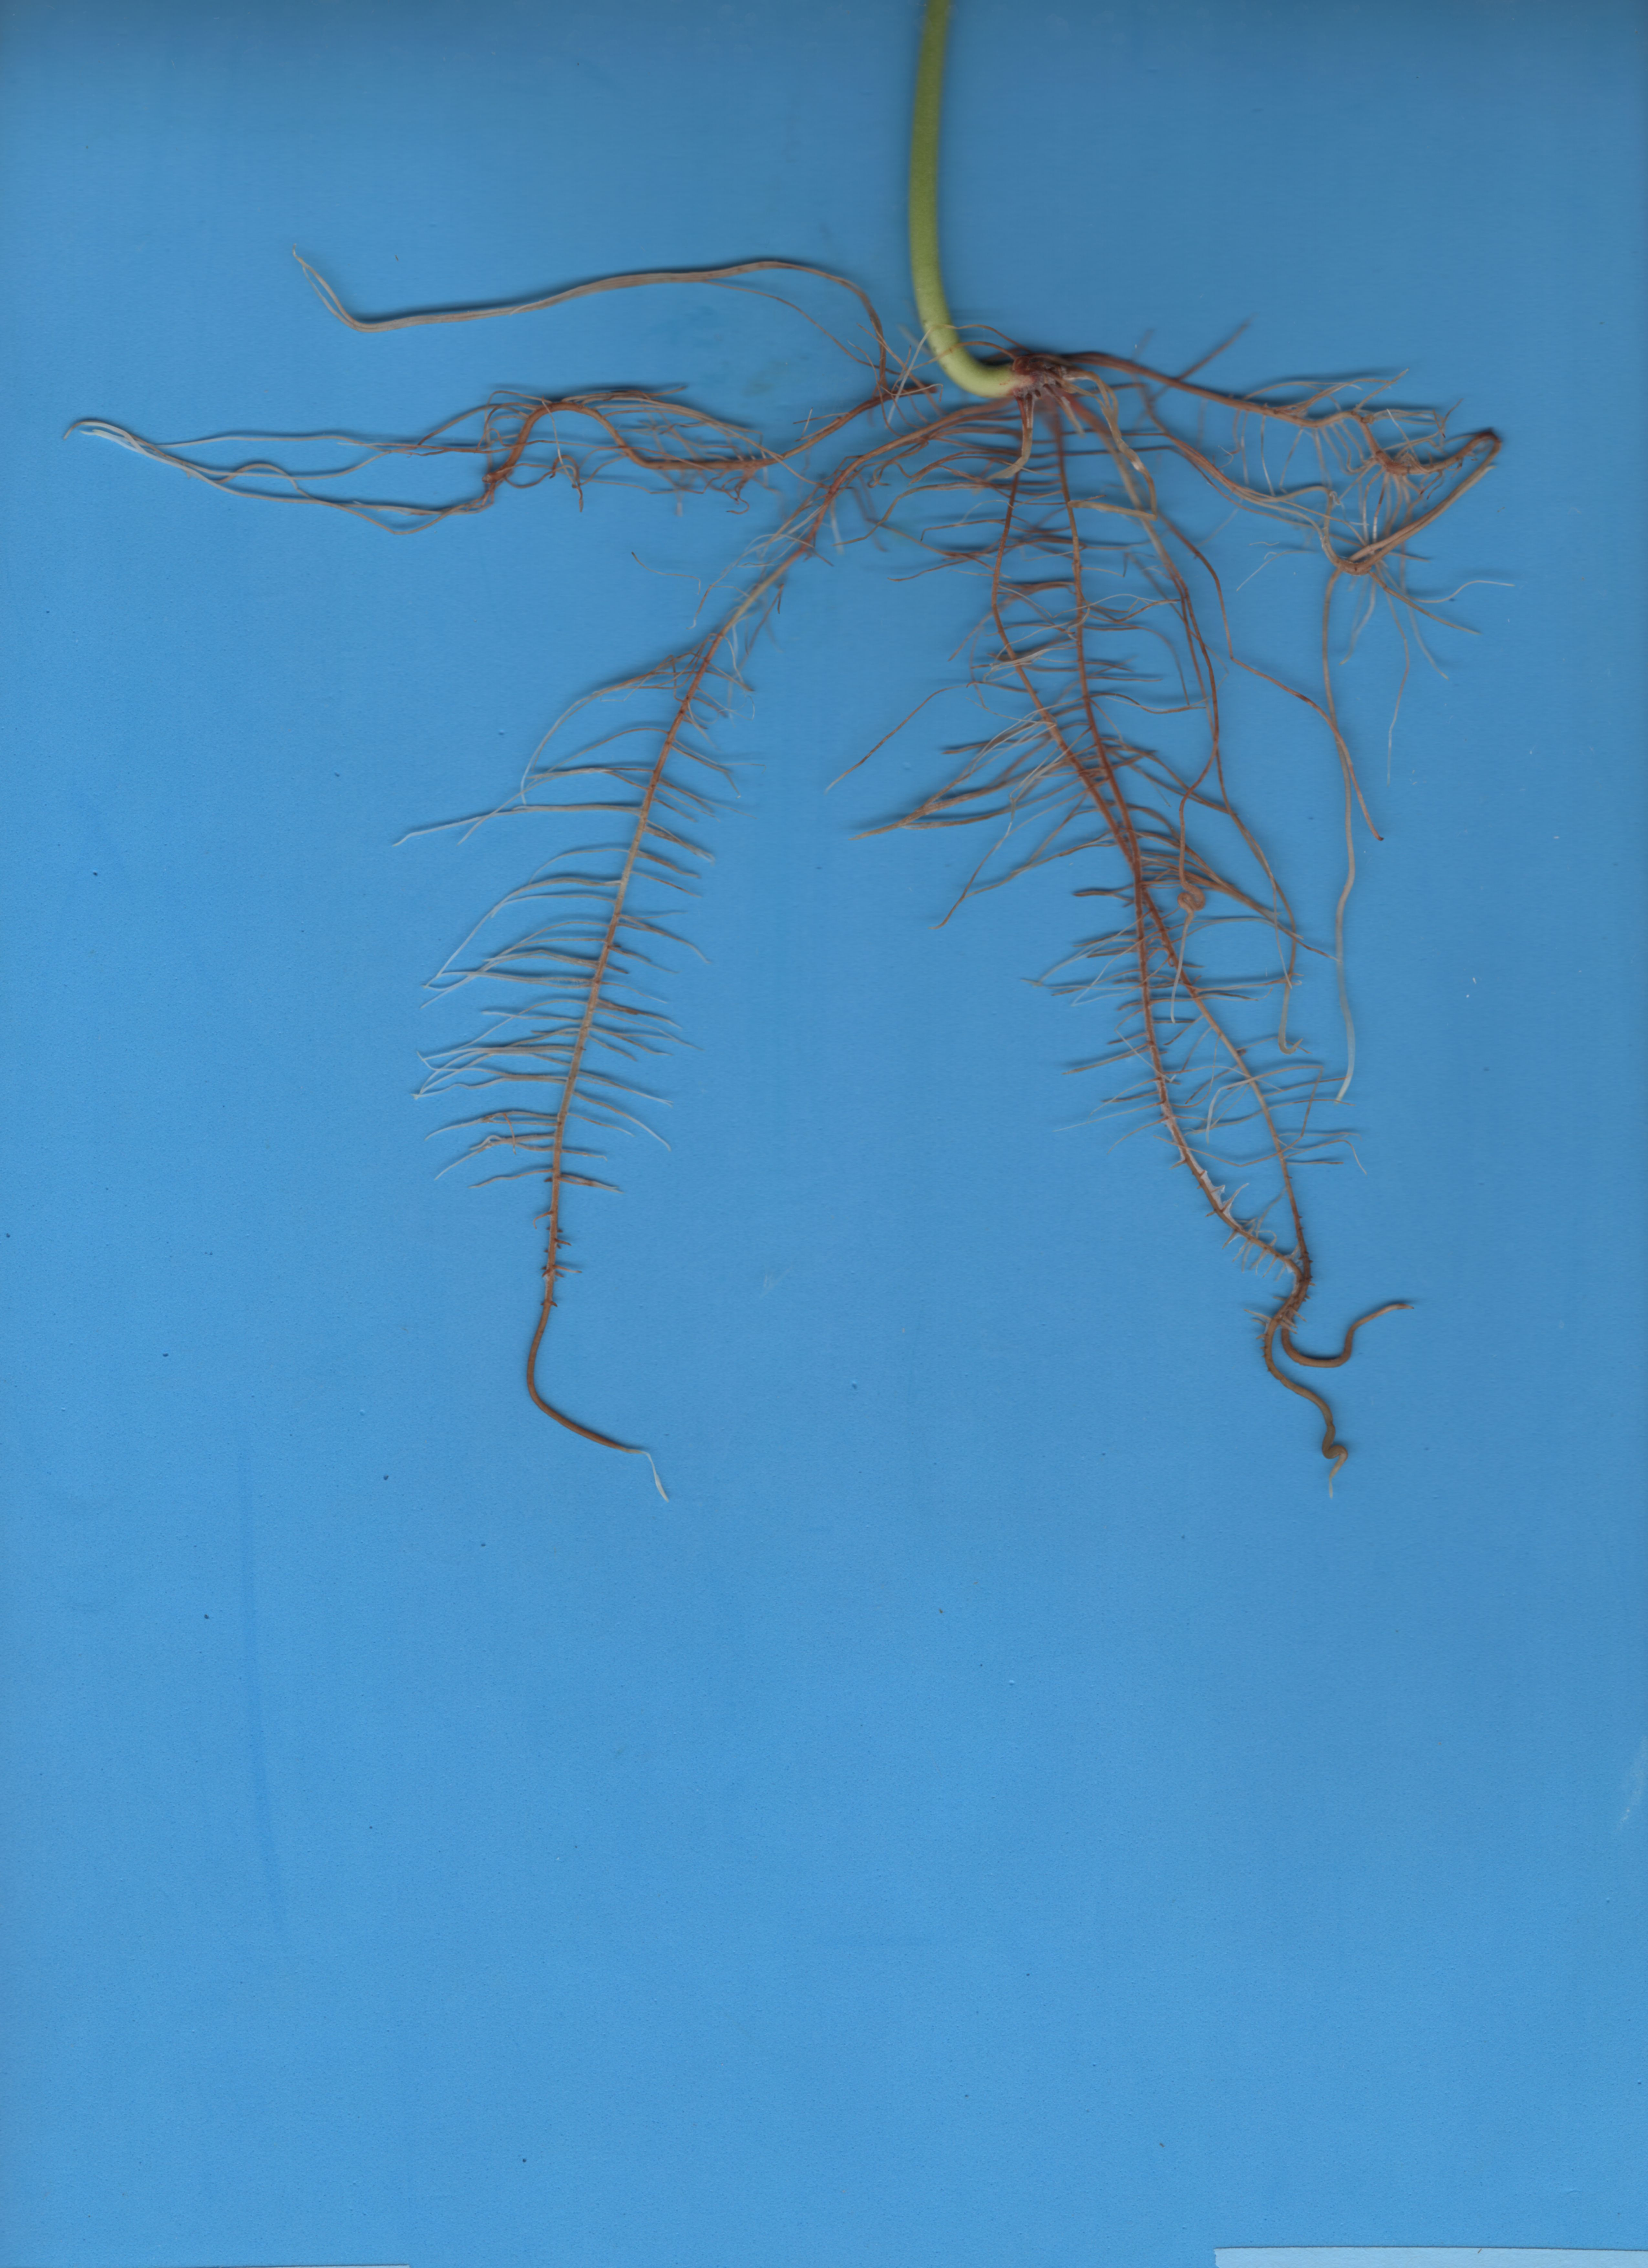CROWNGOOD: (870, 26, 1058, 403)
ROOTDISEASE: (125, 245, 1539, 1532)
